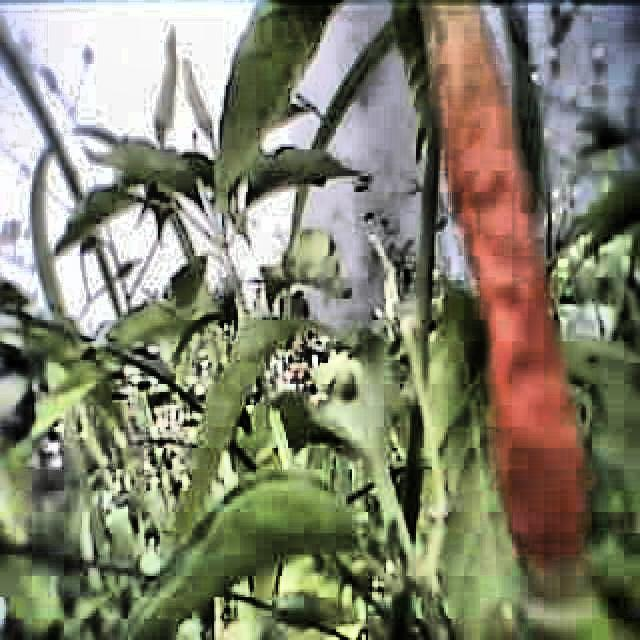Cabai: (422, 9, 599, 551)
